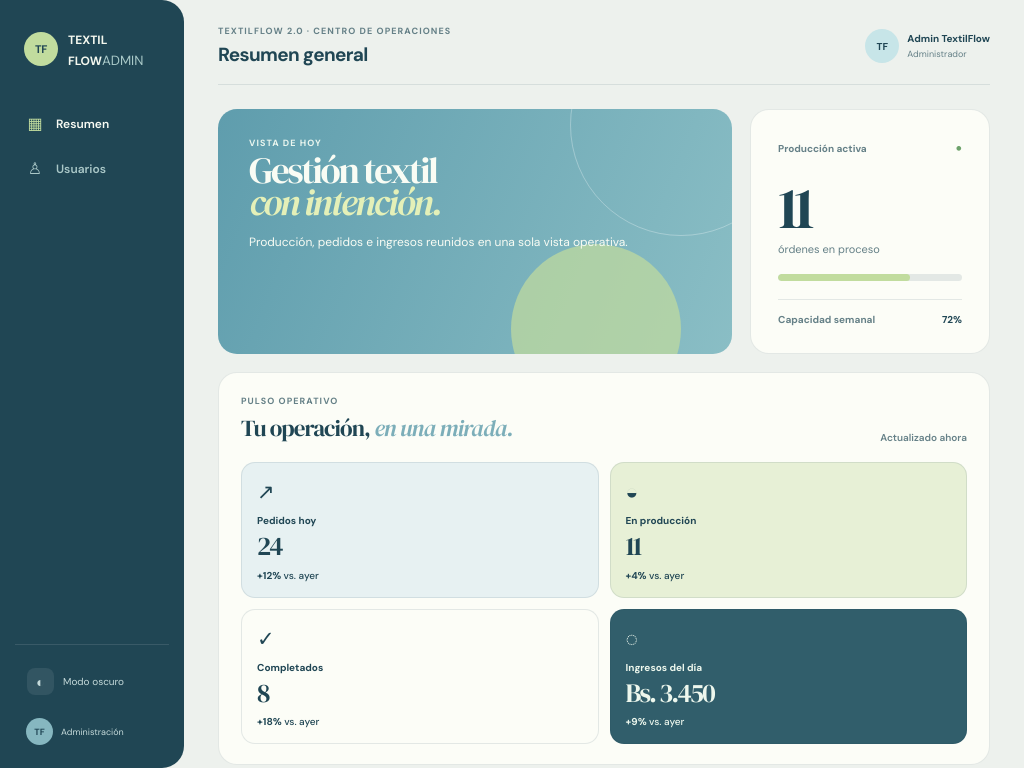
Dashboard administrativo › abre la gestión de usuarios como una sección independiente
Click the button "♙ Usuarios": point(92, 169) x1=15 y1=150 x2=169 y2=188
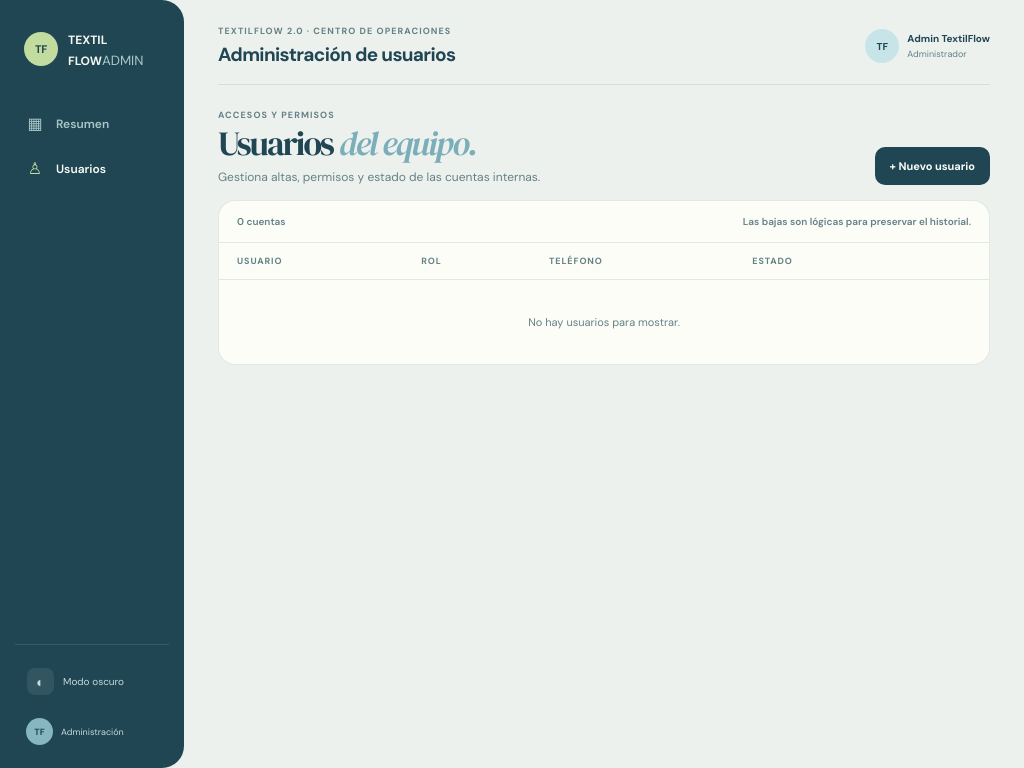
expect the heading "Usuarios del equipo." is shown: met, box x1=218 y1=120 x2=476 y2=166
expect the button "+ Nuevo usuario" is shown: met, box x1=874 y1=147 x2=990 y2=185
expect the text "0 cuentas" is shown: met, box x1=237 y1=215 x2=286 y2=228
